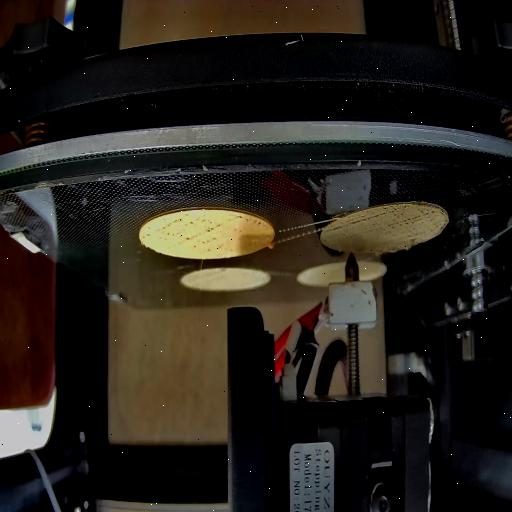under_extrusion: (328, 210, 440, 246), (146, 215, 222, 253), (236, 211, 260, 240)
